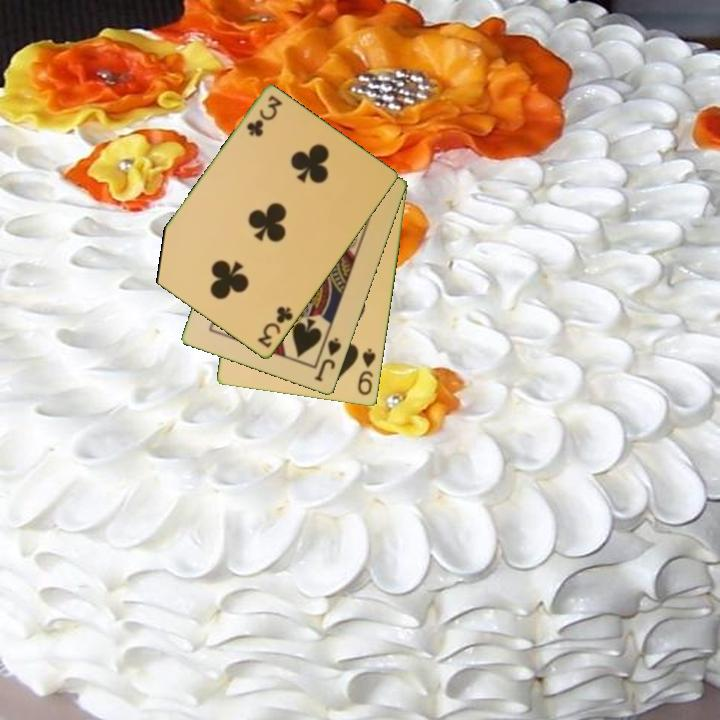3c: (254, 303, 296, 351), (243, 92, 285, 140)
9s: (354, 345, 379, 398)
Js: (311, 334, 344, 385)
